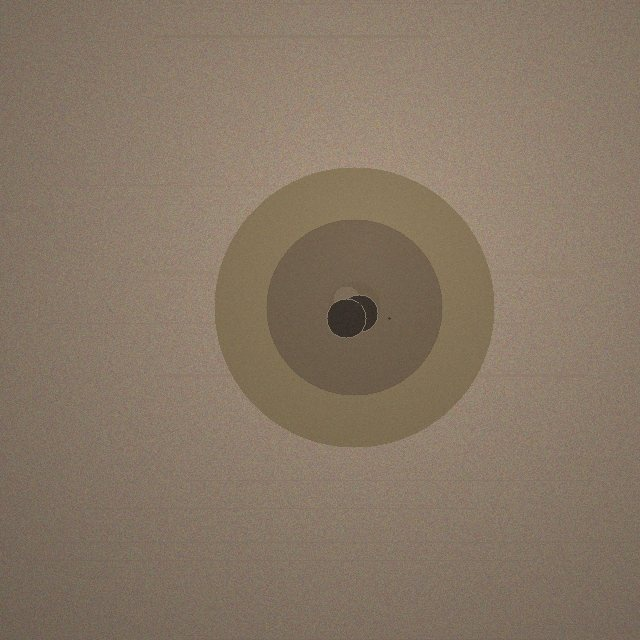shrinkage: (214, 167, 494, 447)
